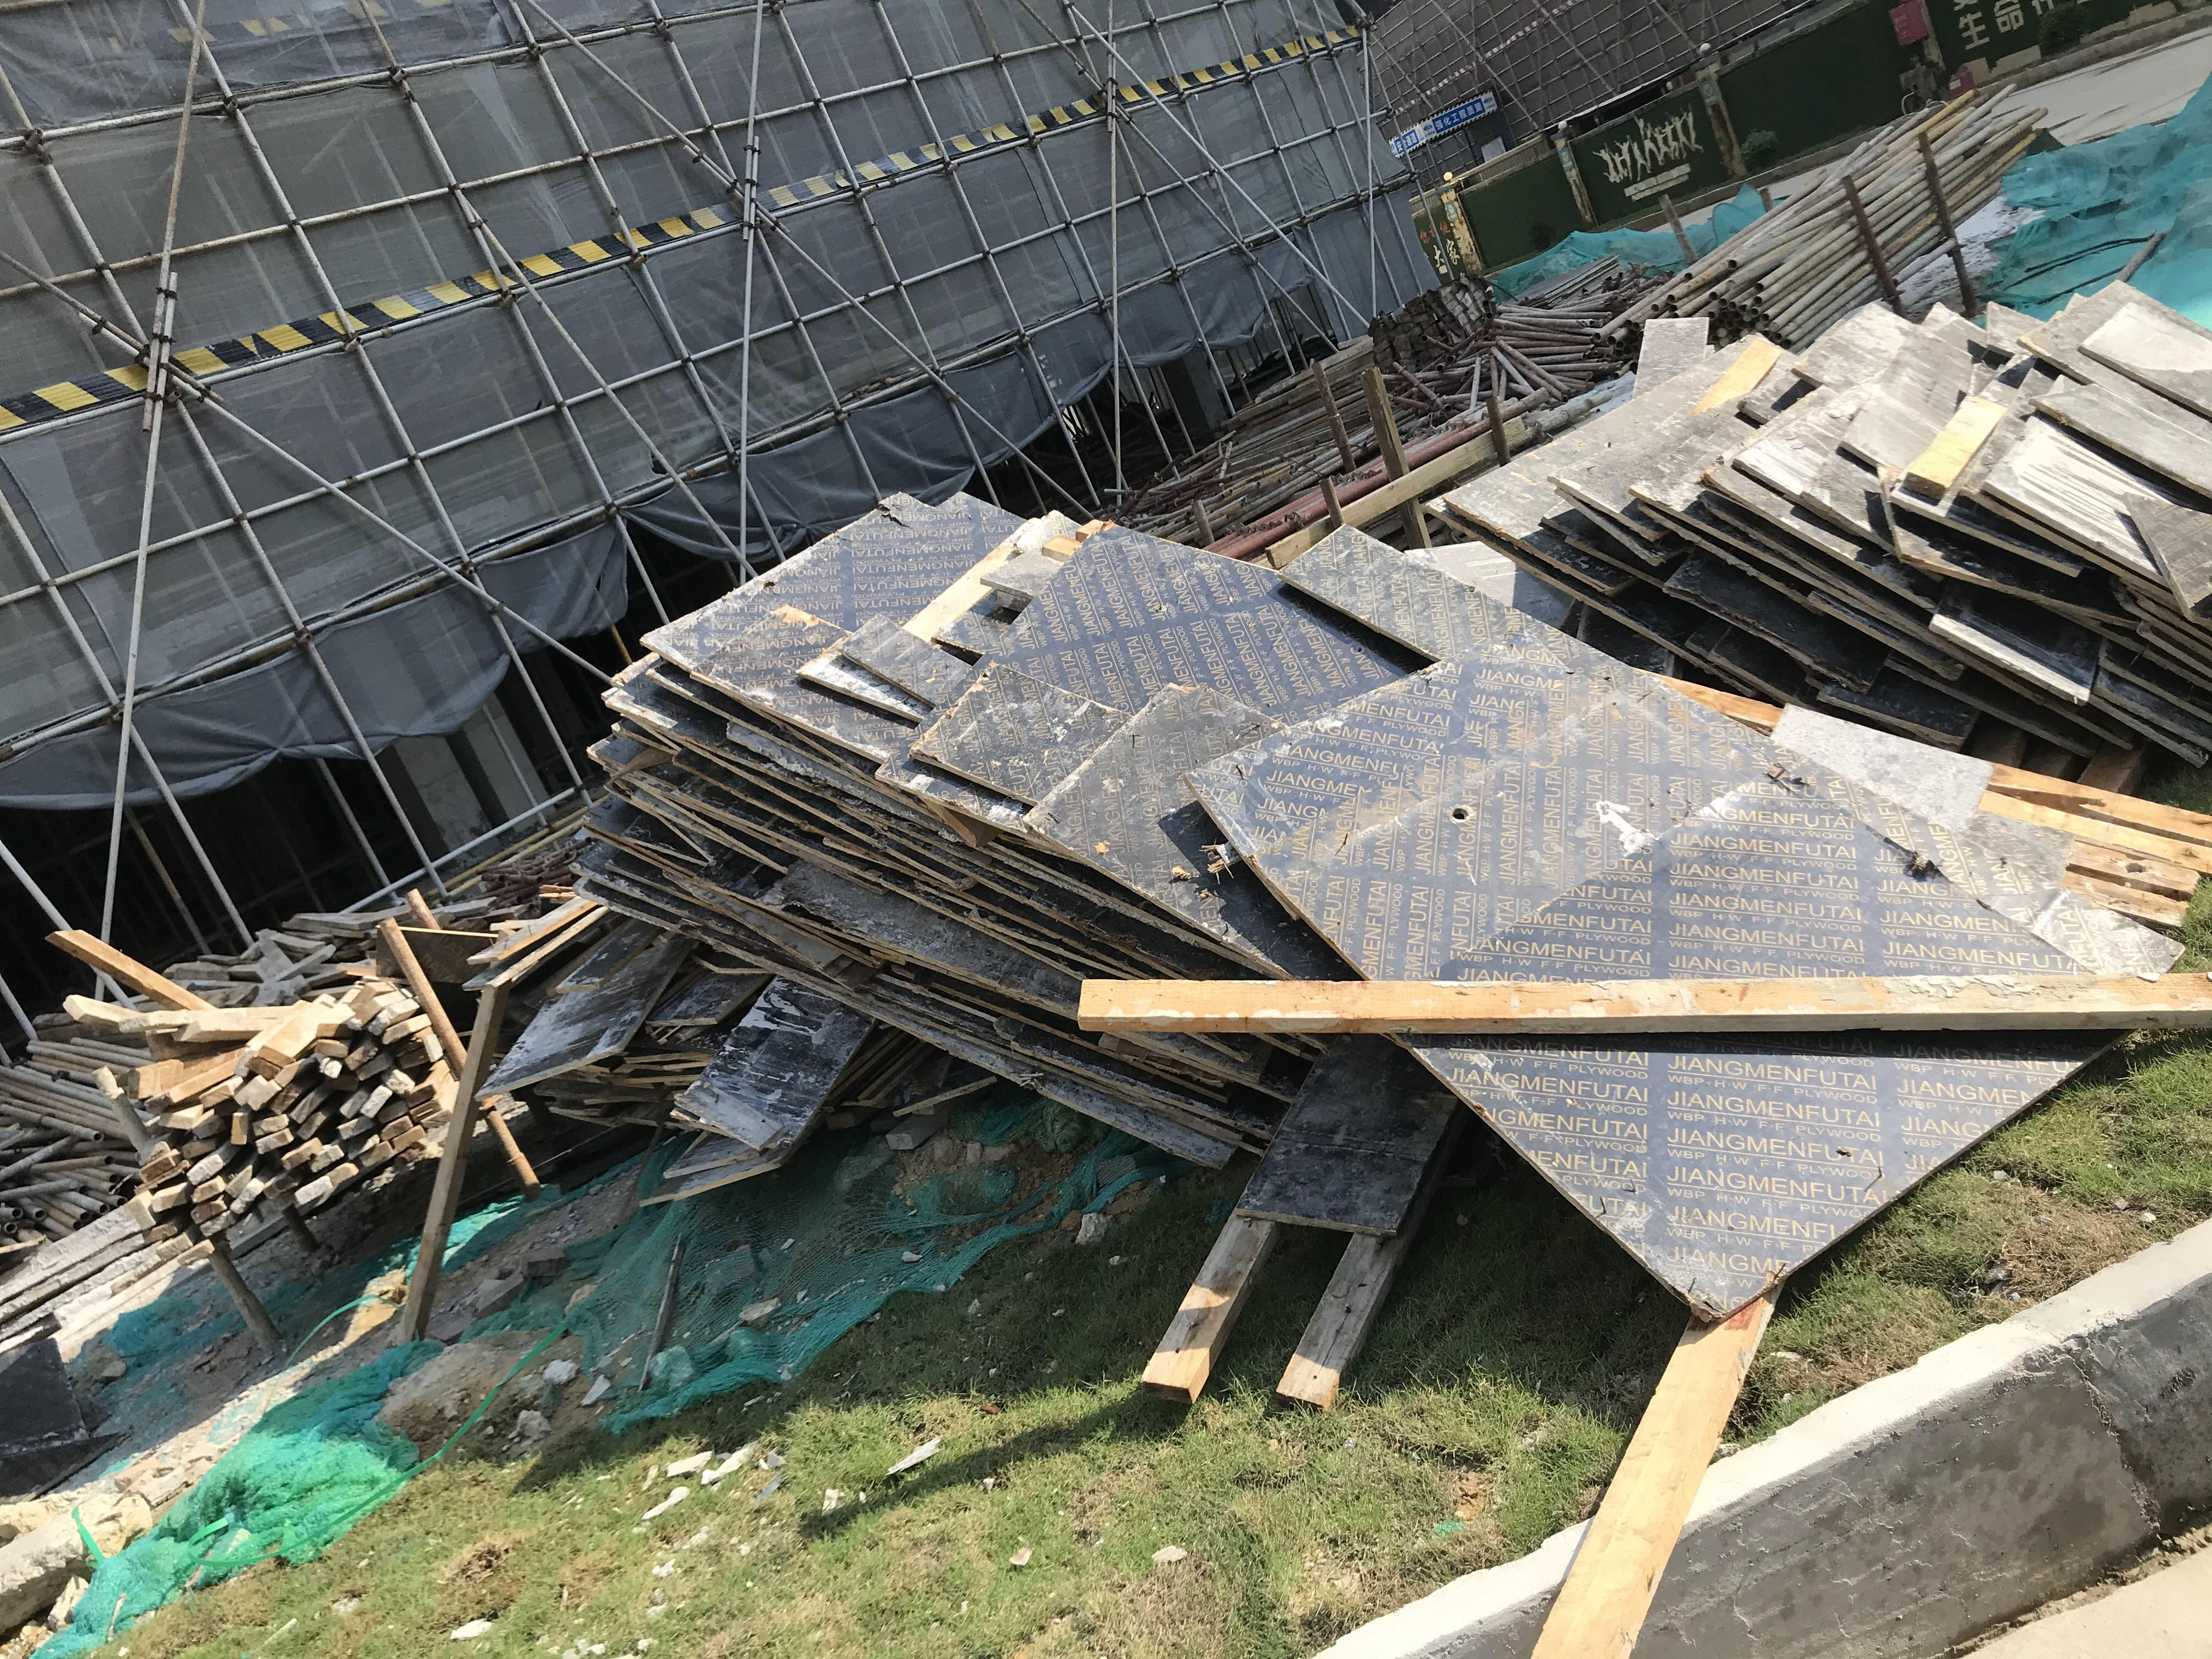board: (566, 484, 2186, 1323), (1407, 275, 2212, 760), (475, 903, 937, 1194)
wood: (59, 993, 462, 1265)
